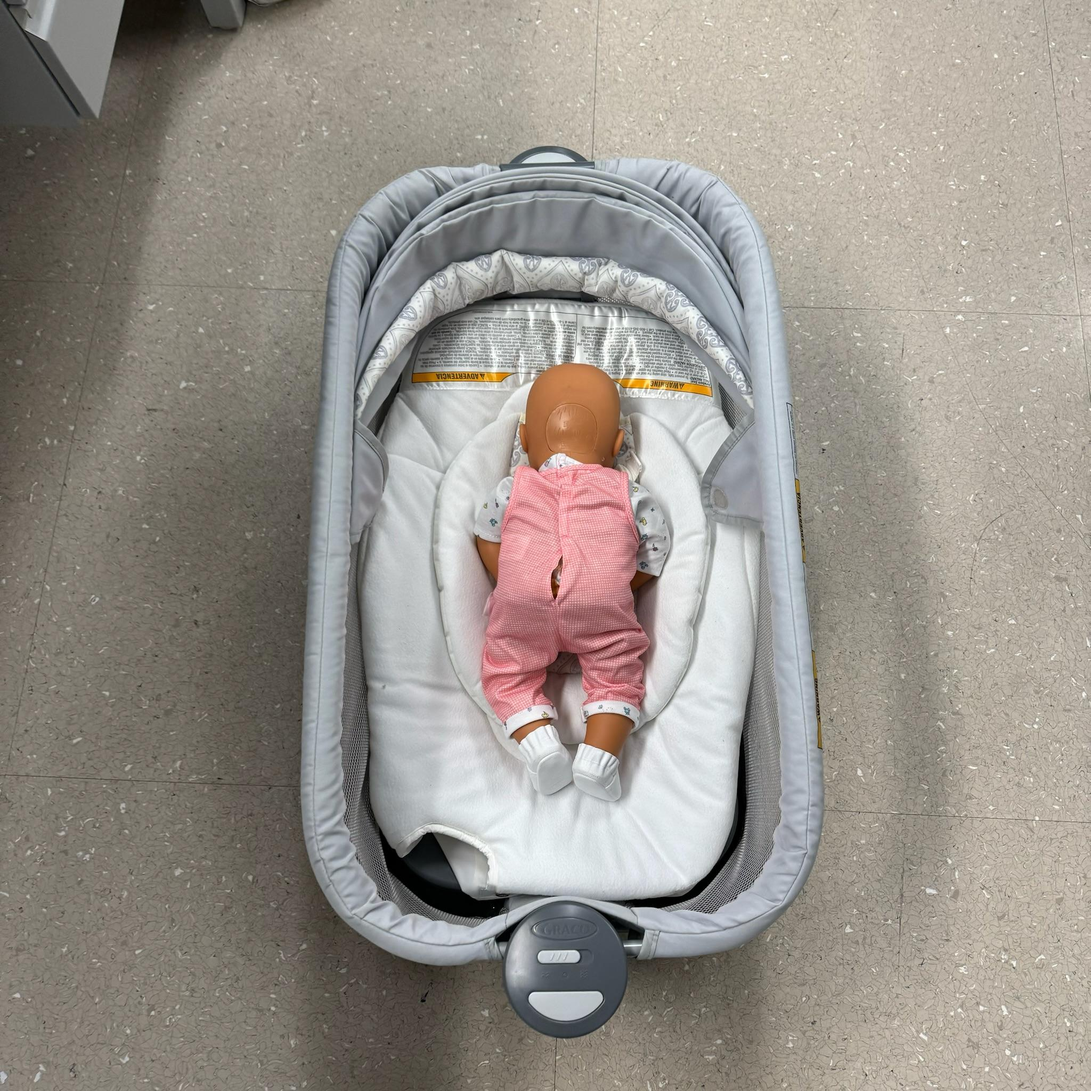baby: (453, 357, 698, 810)
